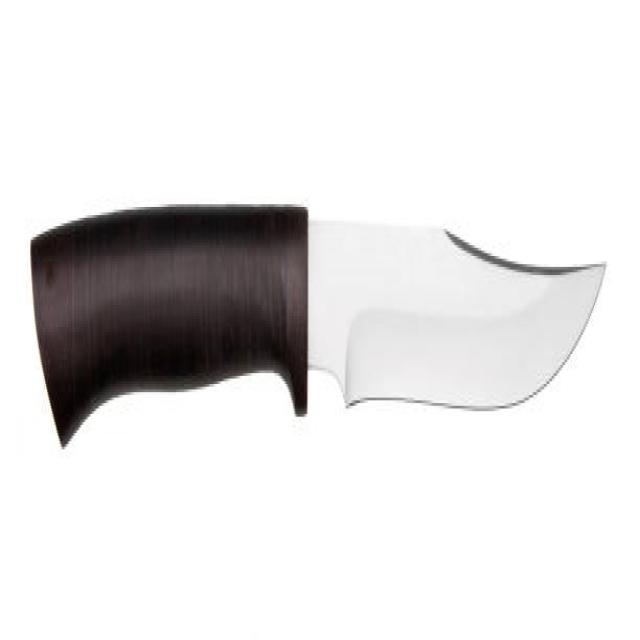knife: (28, 199, 609, 479)
